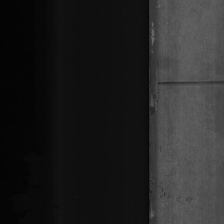crease: (154, 73, 224, 95)
